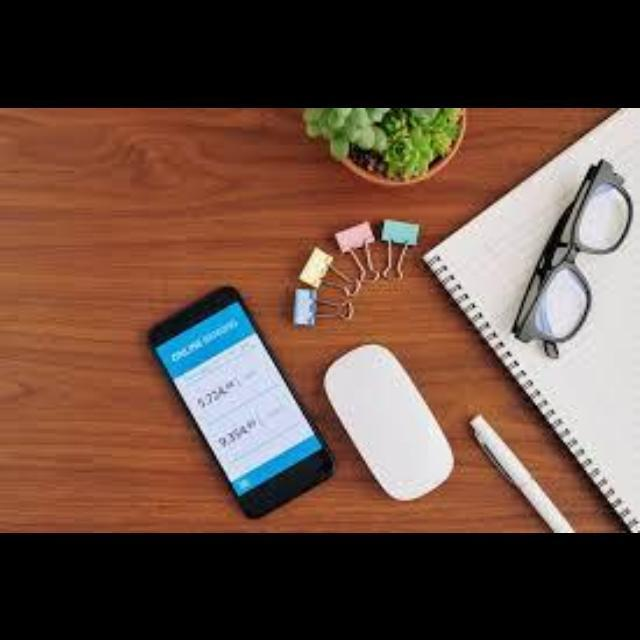PhoneUse: (145, 286, 335, 520)
